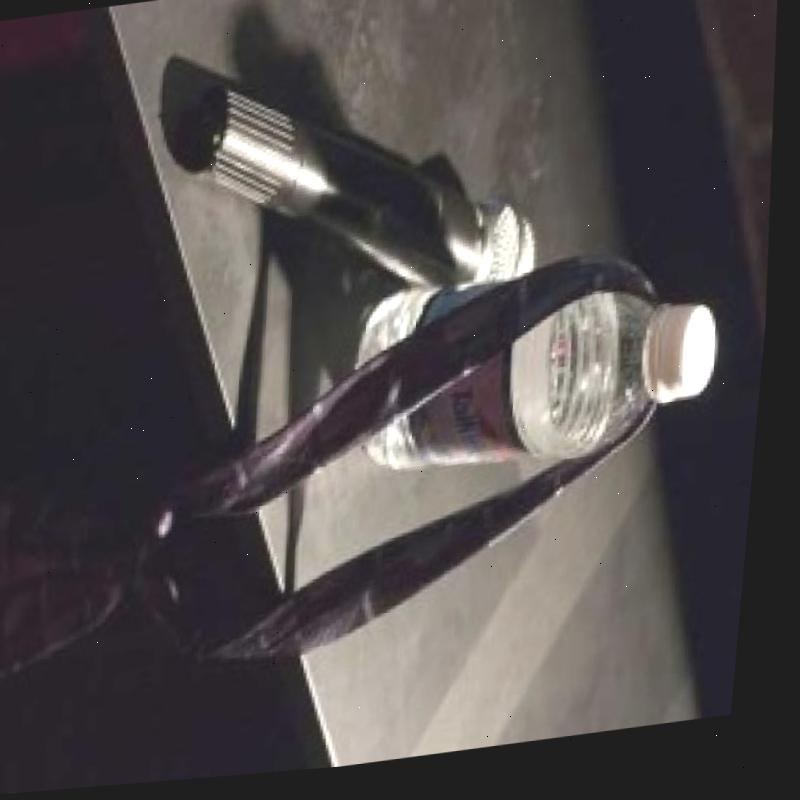botella: (344, 269, 735, 488)
